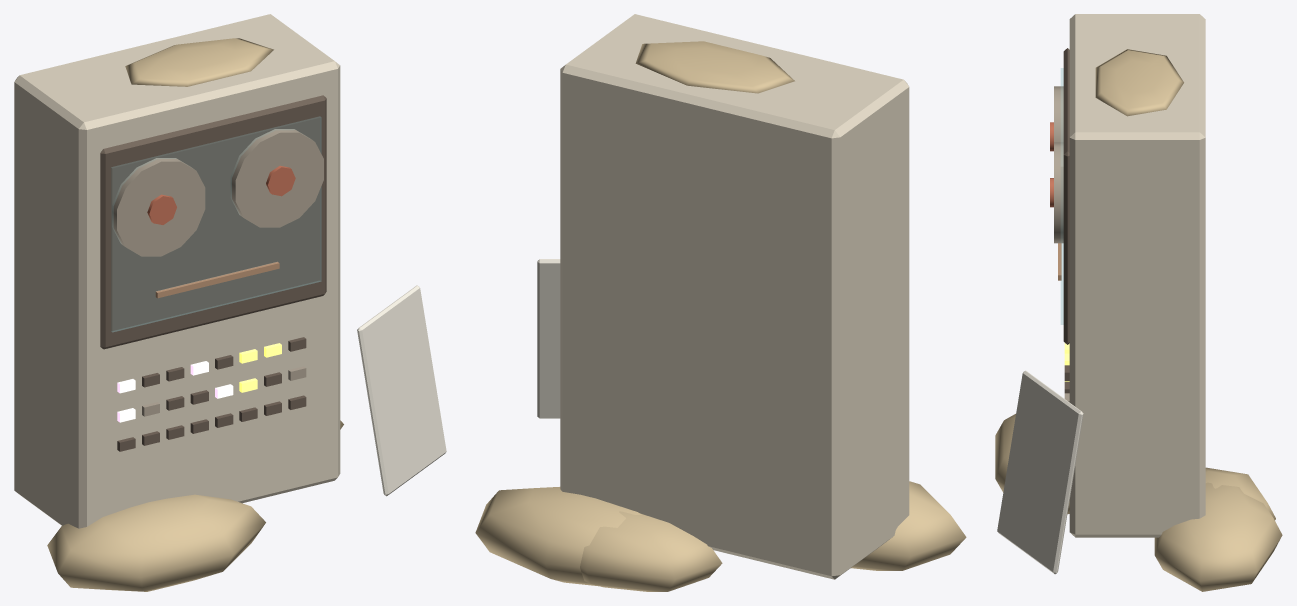
Rendered from du_reel.glb.
3 renders of one model, left to right at view 1: azimuth 30°, elevation 25°; view 2: azimuth 150°, elevation 25°; view 3: azimuth 270°, elevation 25°, orthographic. The views are drawn at different scales.
Parts seen in each view (by area): view 1: du_reel; view 2: du_reel; view 3: du_reel.
Boxes of the visible parts, left/top/right/bottom form: du_reel: left=14, top=14, right=446, bottom=591; du_reel: left=475, top=14, right=966, bottom=591; du_reel: left=995, top=14, right=1282, bottom=591.
Bounding box in the file's own units: 2.26 × 2.59 × 1.48.
